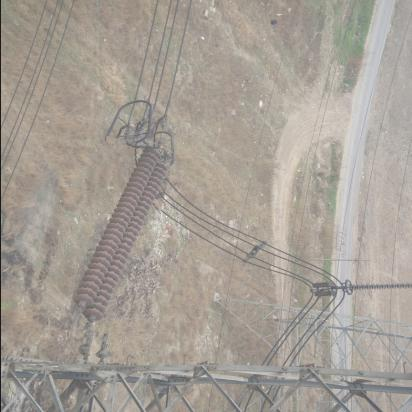insulator: (77, 140, 165, 339)
